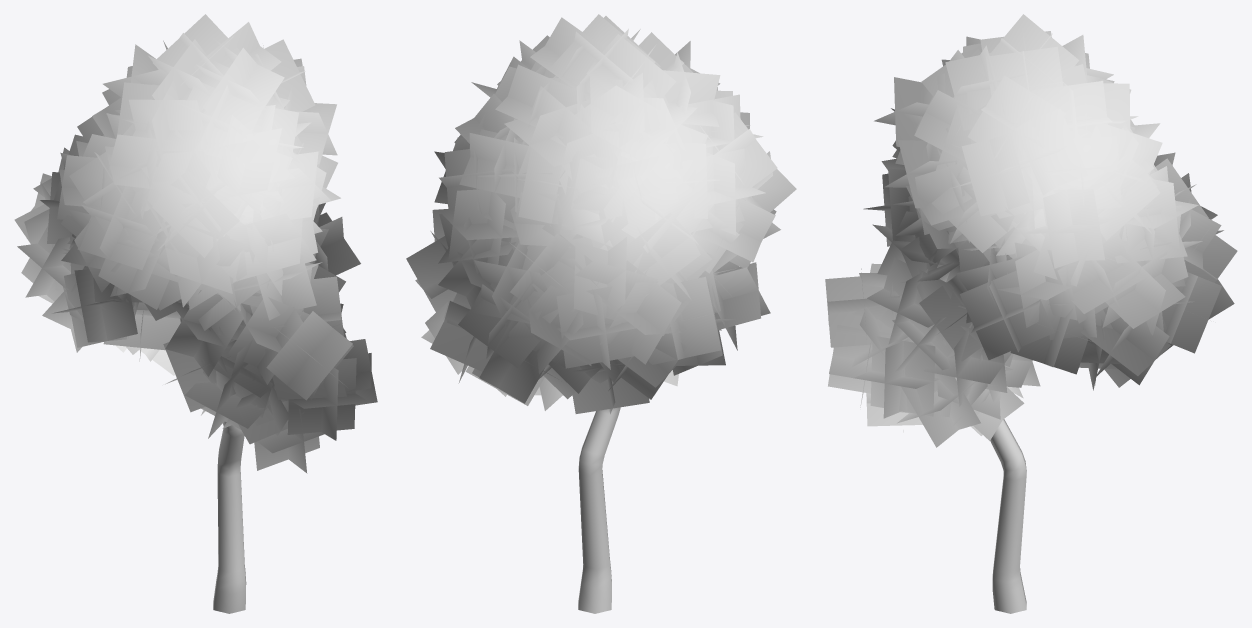
Rendered from STOak1.glb.
3 views of the same model, side by side, from view 1: azimuth 30°, elevation 25°; view 2: azimuth 150°, elevation 25°; view 3: azimuth 270°, elevation 25° (orthographic). The views are drawn at different scales.
Visible parts, largest first — view 1: Leaf.016; view 2: Leaf.016; view 3: Leaf.016.
Boxes of the visible parts, x1,y1,x2,y2 form: Leaf.016: (14,14,377,613); Leaf.016: (406,14,796,613); Leaf.016: (825,14,1237,613).
Bounding box in the file's own units: 11.63 × 21.8 × 14.23.
Materials: 2 (1 with a texture image).
